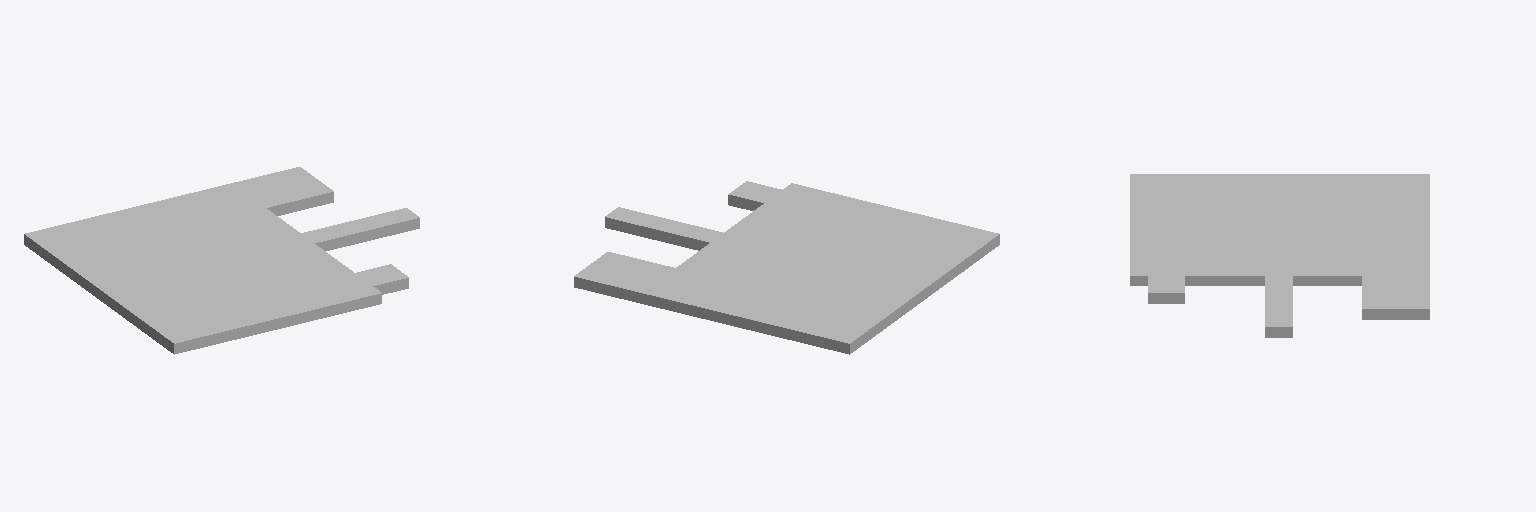
The model's file is Floor TEsting.obj.
3 renders of one model, left to right at view 1: azimuth 30°, elevation 25°; view 2: azimuth 150°, elevation 25°; view 3: azimuth 270°, elevation 25°, orthographic.
Visible parts, largest first — view 1: polySurface1345 polySurface177; view 2: polySurface1345 polySurface177; view 3: polySurface1345 polySurface177.
Boxes of the visible parts, box(x1,y1,x2,y2) form: polySurface1345 polySurface177: box(24, 167, 419, 354); polySurface1345 polySurface177: box(574, 181, 999, 354); polySurface1345 polySurface177: box(1130, 174, 1429, 337).
Bounding box in the file's own units: 1698 × 55.95 × 1408.